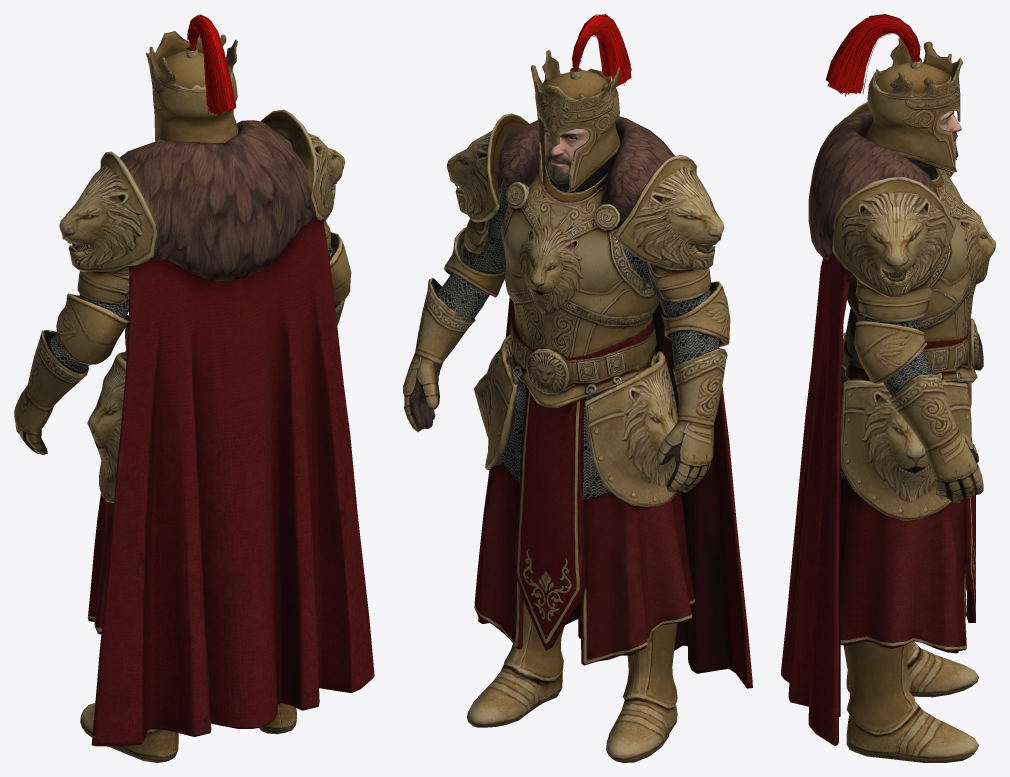
Rendered from Armored_King.fbx.
3 renders of one model, left to right at view 1: azimuth 30°, elevation 25°; view 2: azimuth 150°, elevation 25°; view 3: azimuth 270°, elevation 25°, orthographic. The views are drawn at different scales.
Visible parts, largest first — view 1: unnamed.001; view 2: unnamed.001; view 3: unnamed.001.
Part boxes in pixels (x1=…): unnamed.001: x1=14, y1=14, x2=374, y2=762; unnamed.001: x1=403, y1=14, x2=752, y2=762; unnamed.001: x1=781, y1=14, x2=995, y2=762.
Size of the model in its own units: 90.49 by 200 by 54.99.
